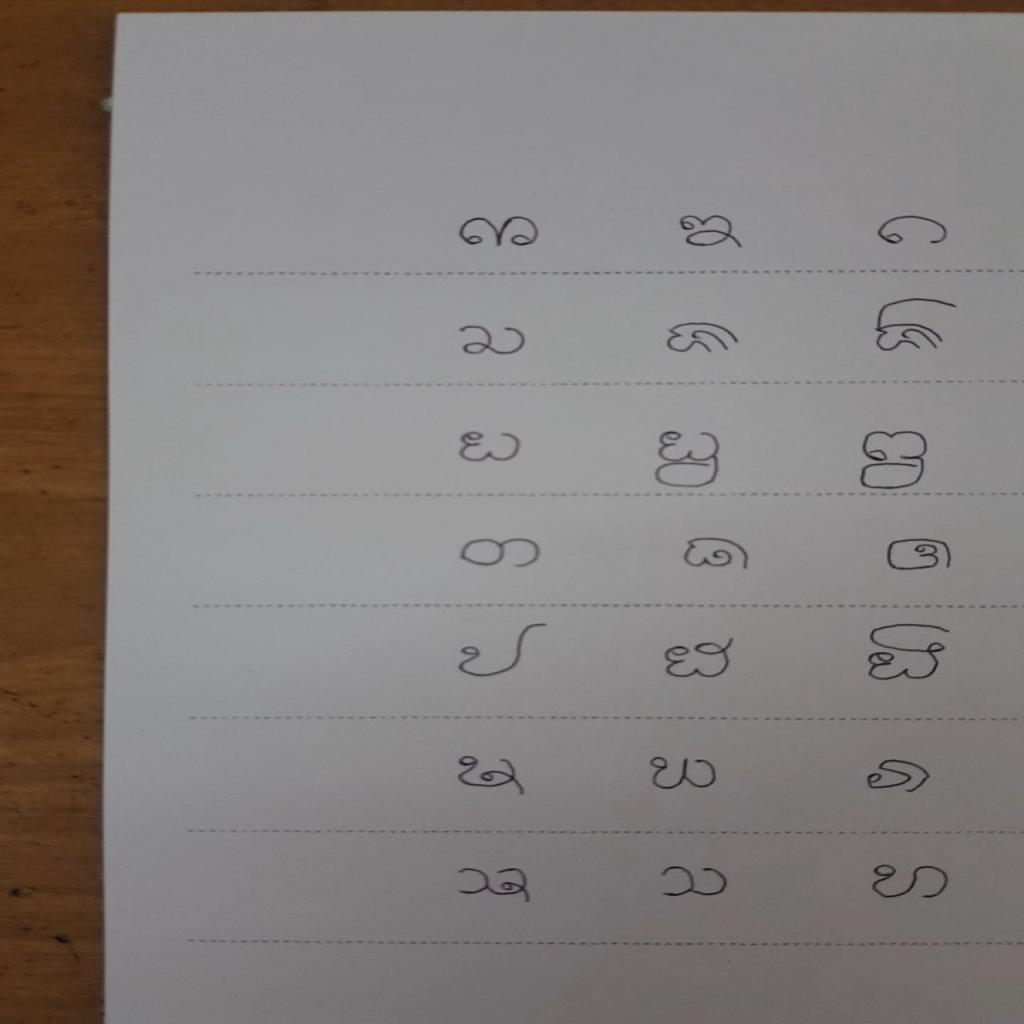LN001: (452, 213, 544, 252)
LN002: (670, 207, 752, 256)
LN003: (869, 208, 960, 251)
LN007: (449, 320, 535, 363)
LN008: (657, 314, 746, 360)
LN009: (863, 293, 965, 359)
LN013: (449, 424, 529, 468)
LN014: (646, 422, 730, 494)
LN015: (852, 423, 935, 495)
LN019: (450, 531, 551, 575)
LN020: (675, 529, 763, 579)
LN021: (878, 533, 961, 578)
LN025: (447, 616, 555, 686)
LN026: (656, 632, 740, 686)
LN027: (857, 619, 959, 688)
LN031: (444, 748, 535, 802)
LN032: (638, 750, 730, 797)
LN033: (858, 751, 938, 800)
LN037: (447, 858, 540, 909)
LN038: (651, 857, 738, 906)
LN039: (859, 856, 960, 908)
